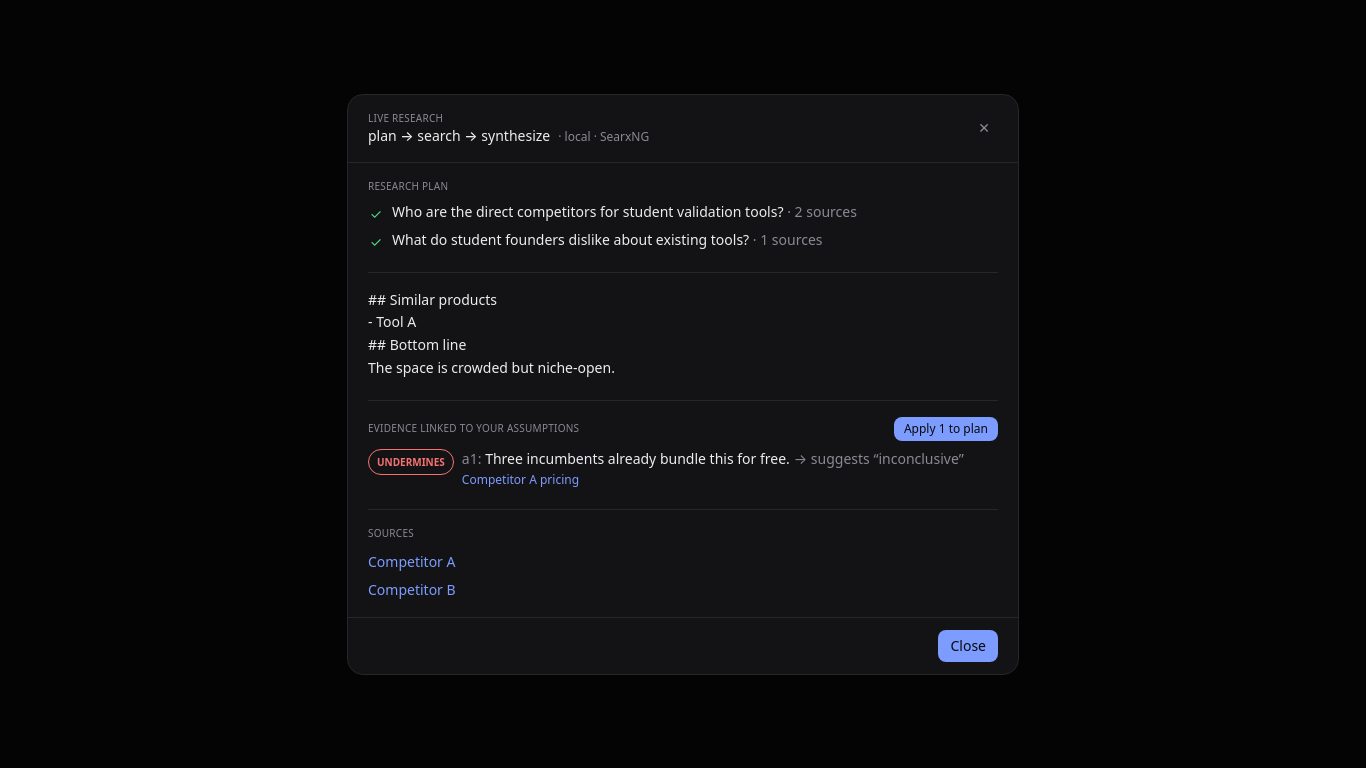
ResearchModal › renders linked evidence and applies it to the plan
Expected: the text "Evidence linked to your assumptions" is shown, [368,421,579,436]
Expected: the text "Three incumbents already bundle this for free" is shown, [485,448,790,468]
What coordinates should you click on to do the following:
click the button "Apply 1 to plan"
I would click on:
 (946, 428)
Its box is [894,416,998,440].
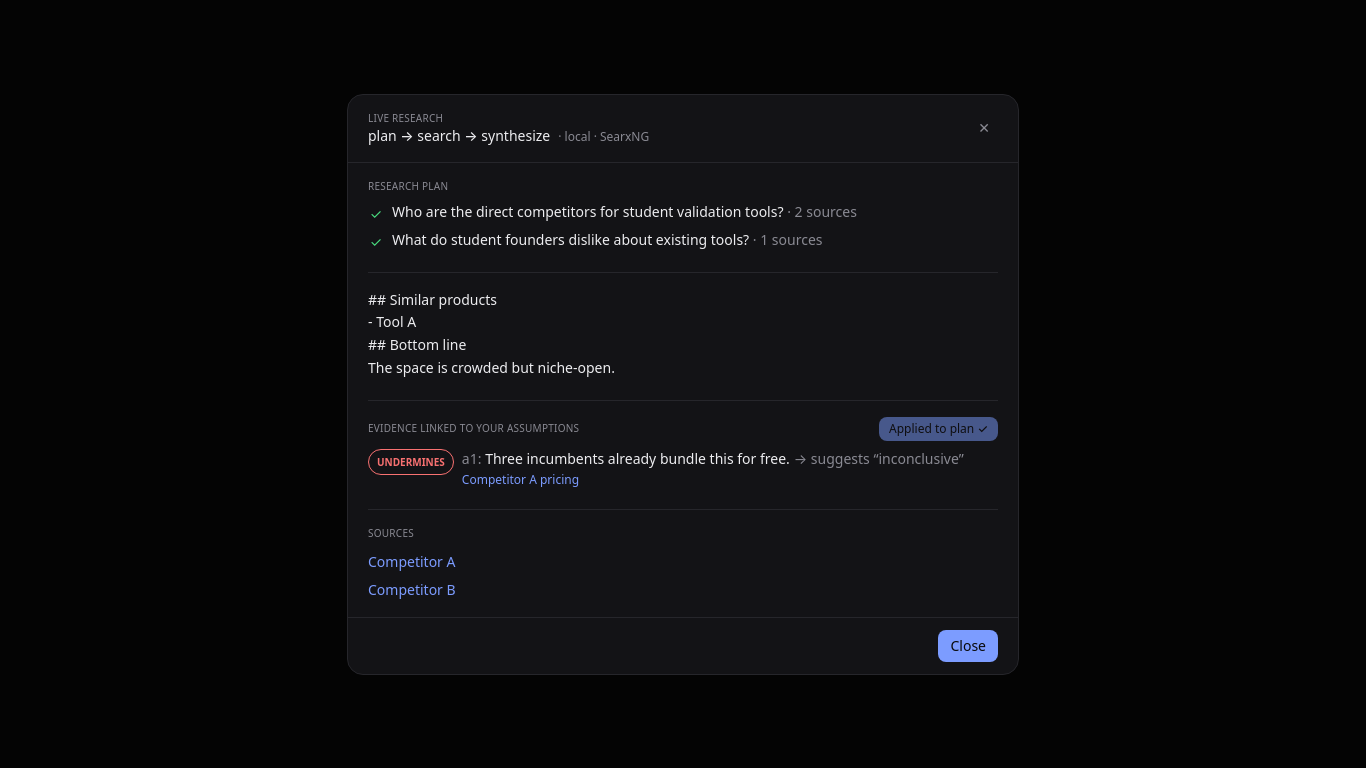
Expected: the button "Applied to plan ✓" is shown, [879,416,998,440]
